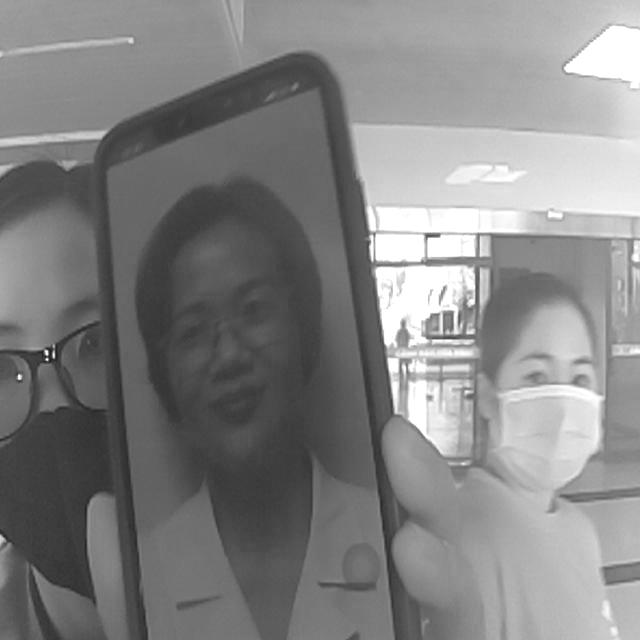fake: (88, 45, 413, 639)
